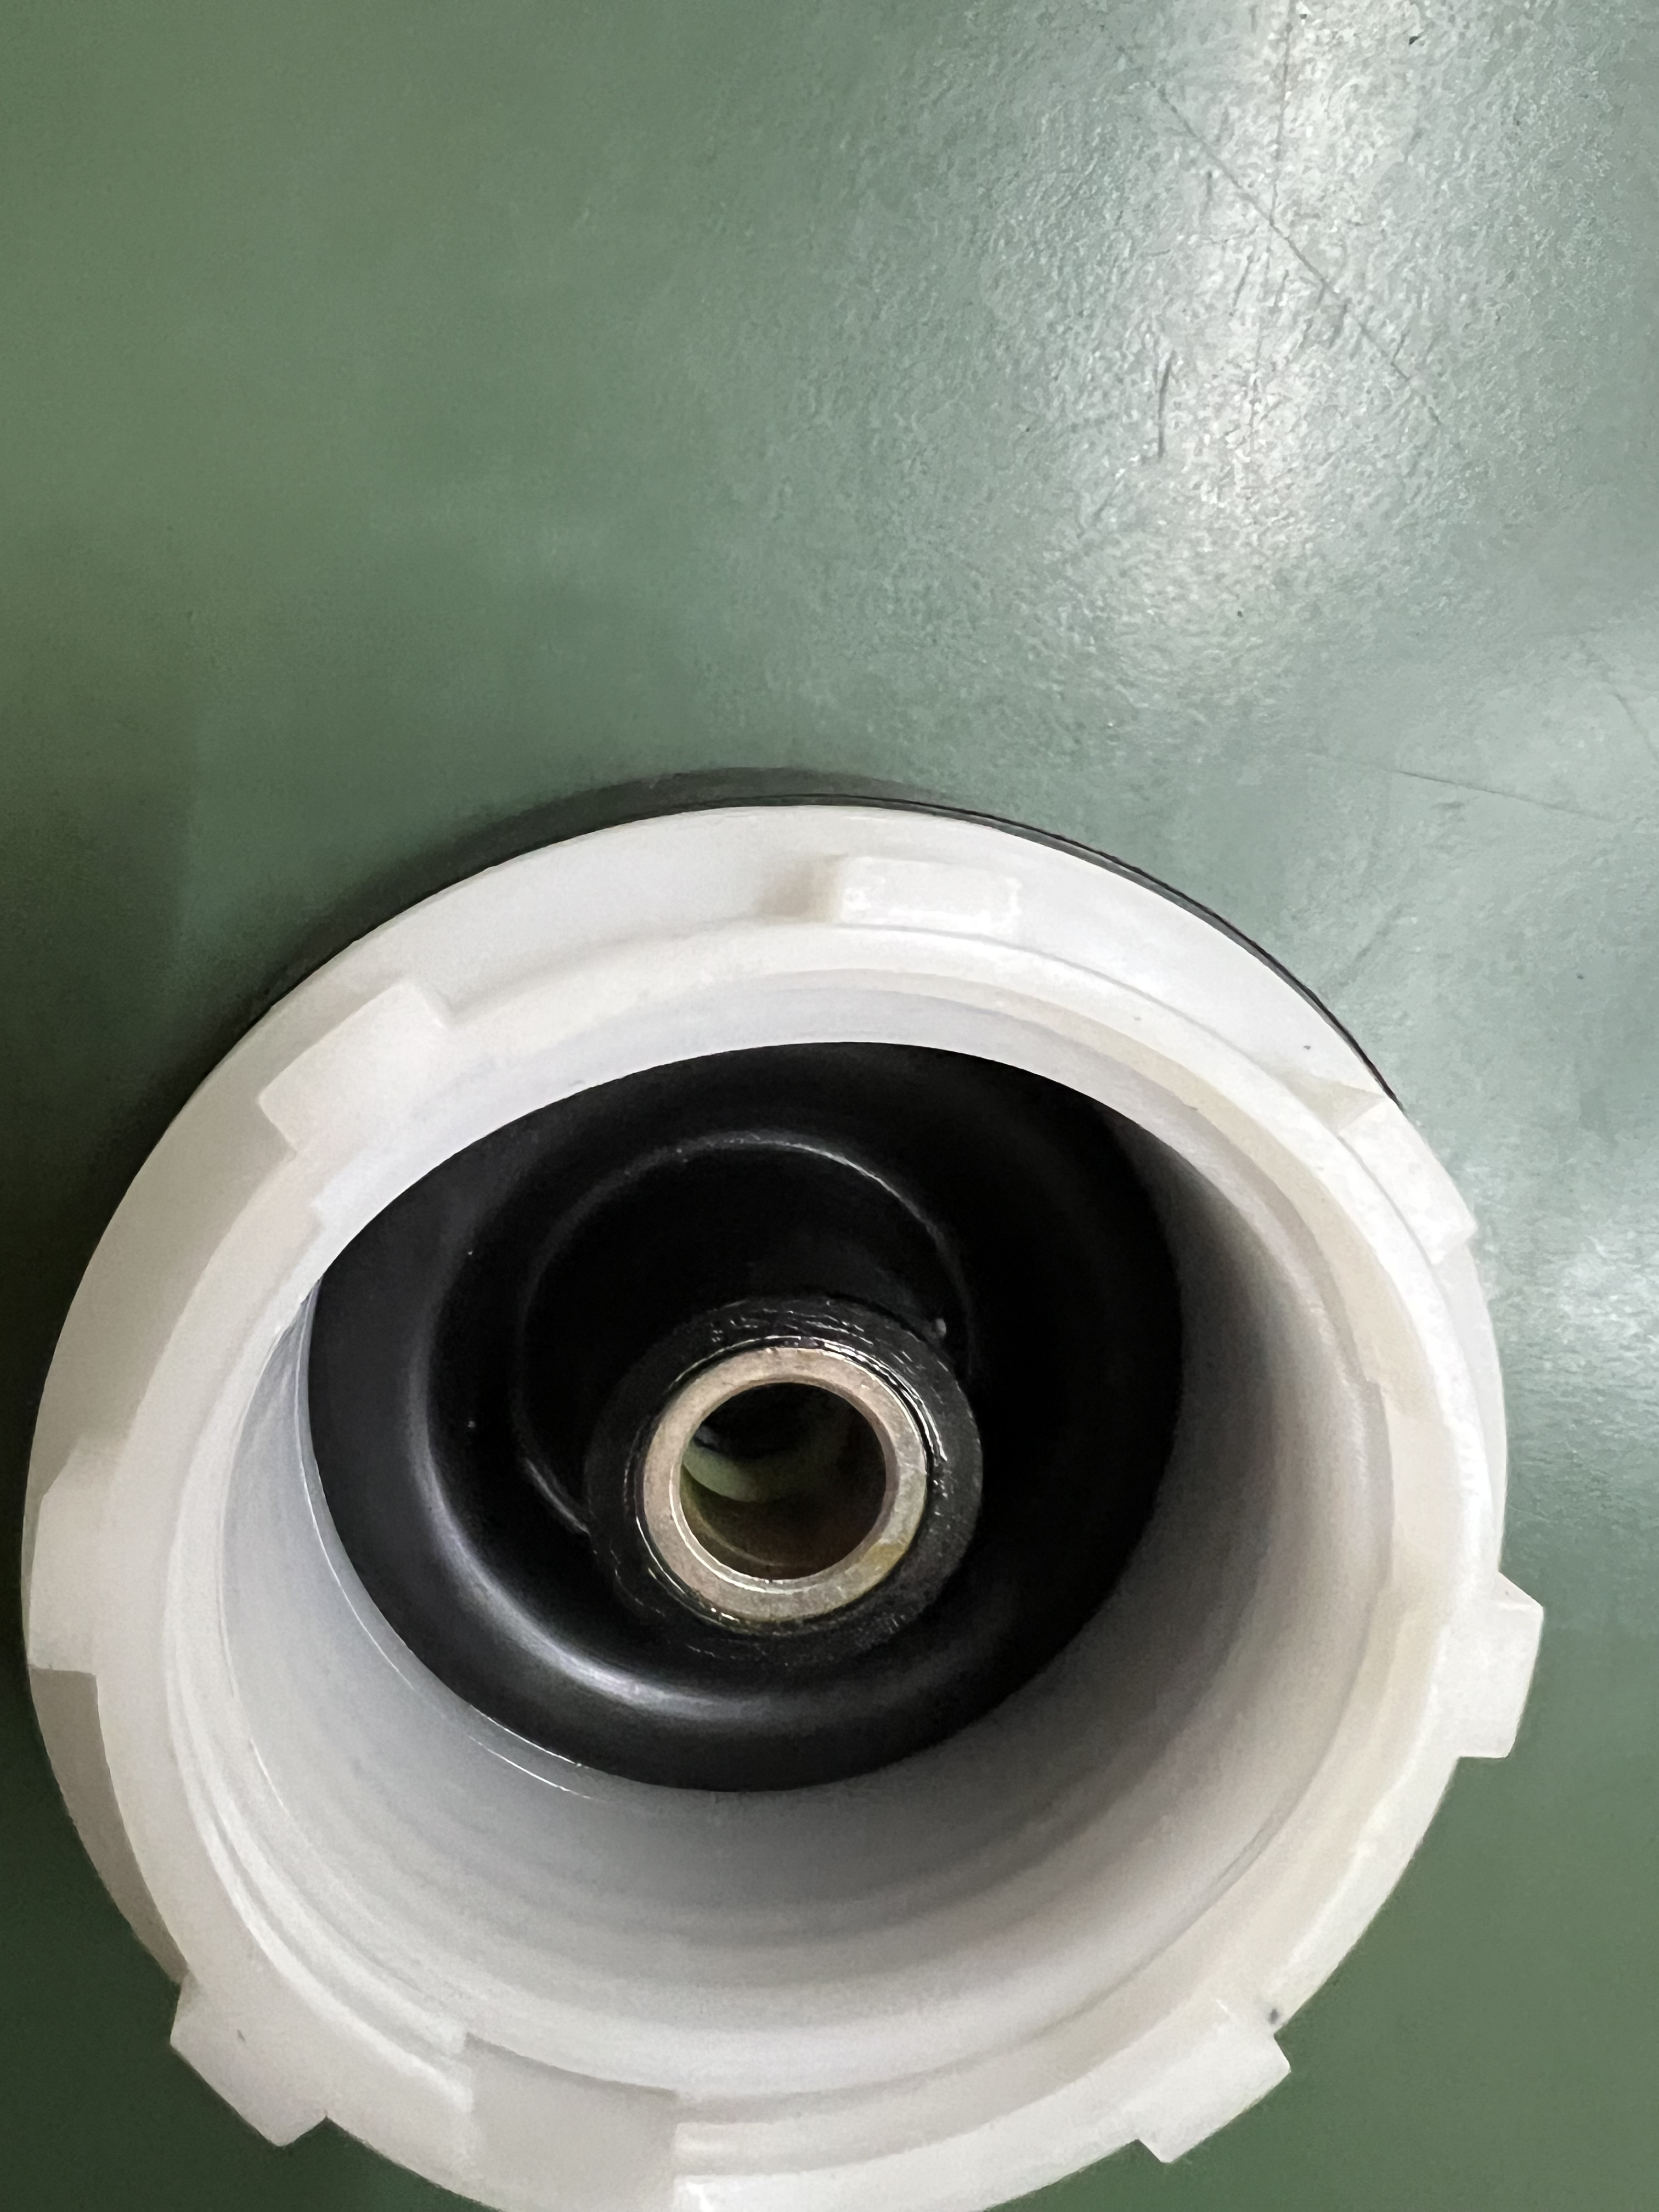lever: (9, 791, 1546, 2212)
